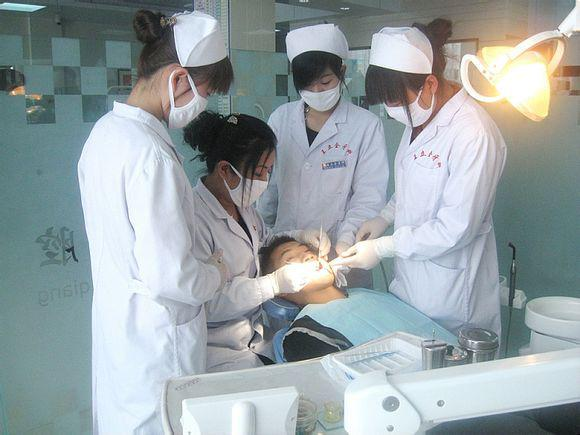NONE: (279, 243, 338, 288)
OK: (163, 69, 216, 130), (217, 157, 274, 209), (379, 86, 438, 129), (300, 75, 341, 113)
